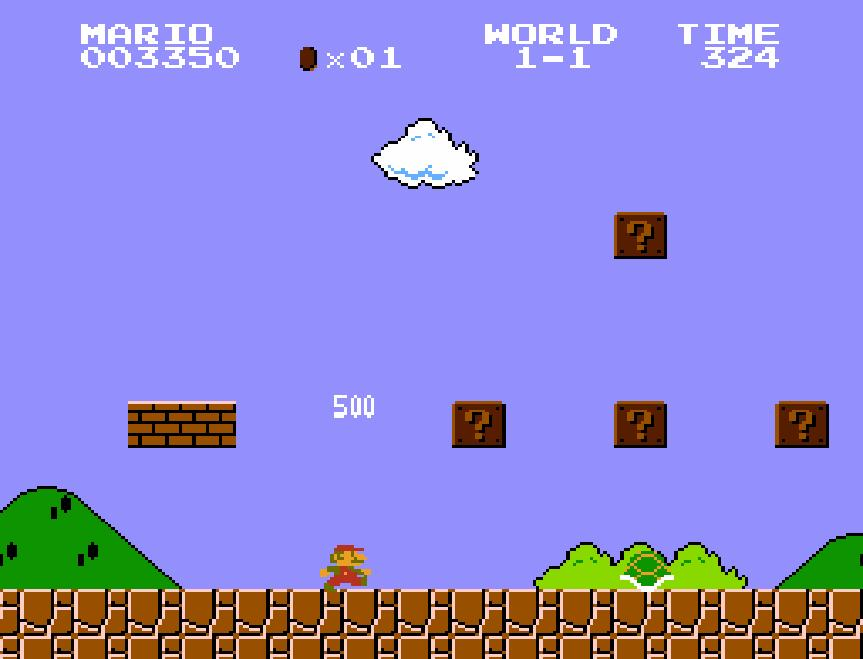little_mario: (318, 544, 376, 594)
